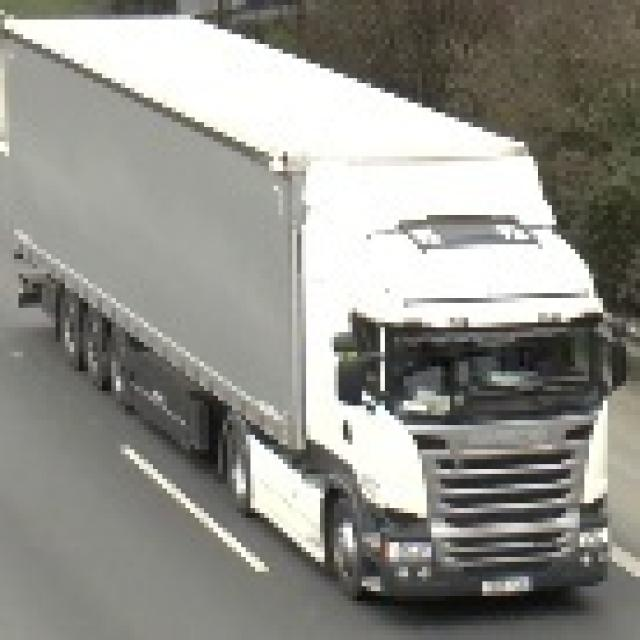TRUCK: (9, 10, 620, 608)
